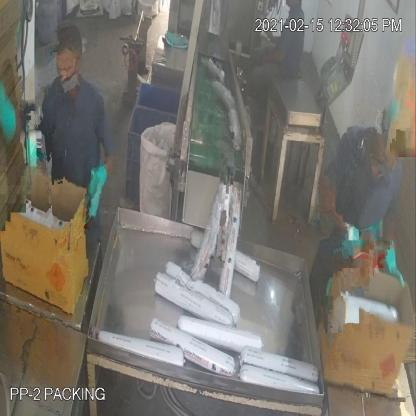glove: (76, 150, 109, 212)
no_glove: (252, 37, 304, 75)
